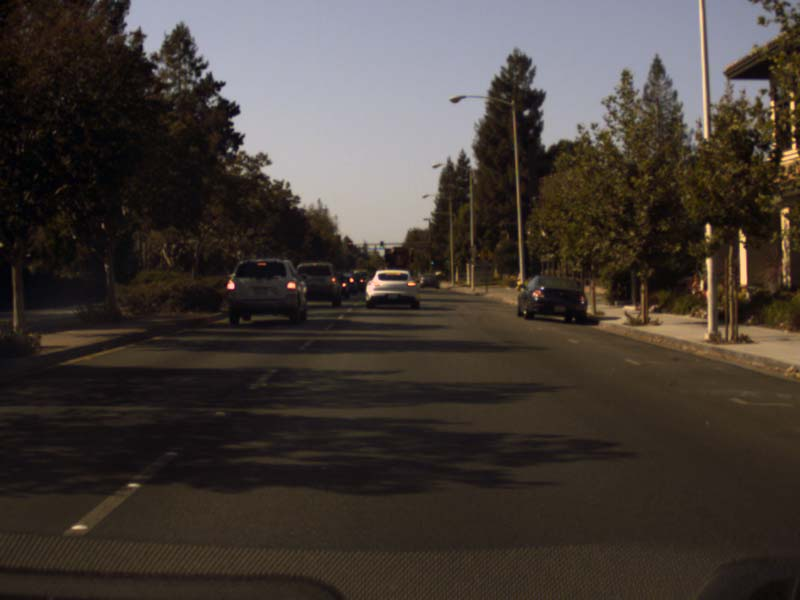Green: (379, 240, 383, 248), (430, 257, 433, 265)
Red: (347, 241, 352, 249)
